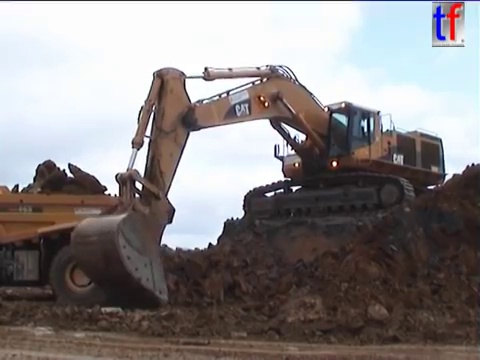excavator: (66, 61, 451, 312)
truck: (1, 183, 179, 312)
